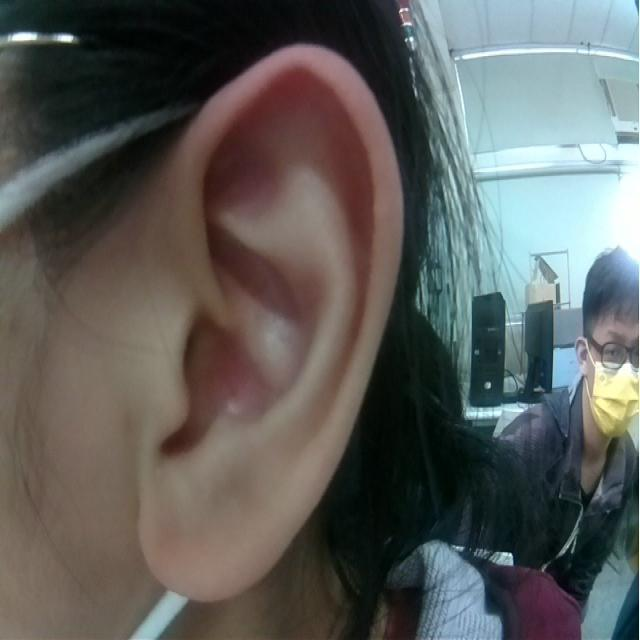no-earmuff: (135, 44, 402, 605)
